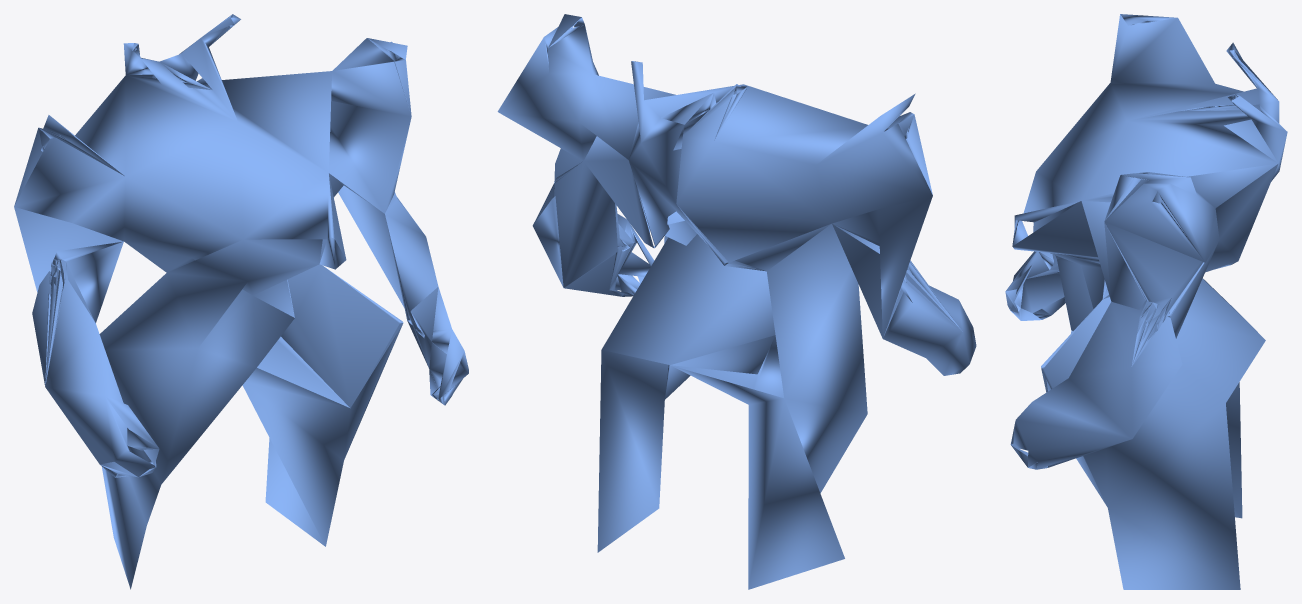
The model's file is cbp0.glb.
The picture shows the model from 3 angles, left to right: view 1: azimuth 30°, elevation 25°; view 2: azimuth 150°, elevation 25°; view 3: azimuth 270°, elevation 25°; orthographic projection. The views are drawn at different scales.
Visible parts, largest first — view 1: cbp0; view 2: cbp0; view 3: cbp0.
Boxes of the visible parts, x1,y1,x2,y2 form: cbp0: [14, 14, 468, 589]; cbp0: [497, 14, 976, 589]; cbp0: [1005, 14, 1287, 589].
Size of the model in its own units: 0.8448 by 0.978 by 0.5219.
